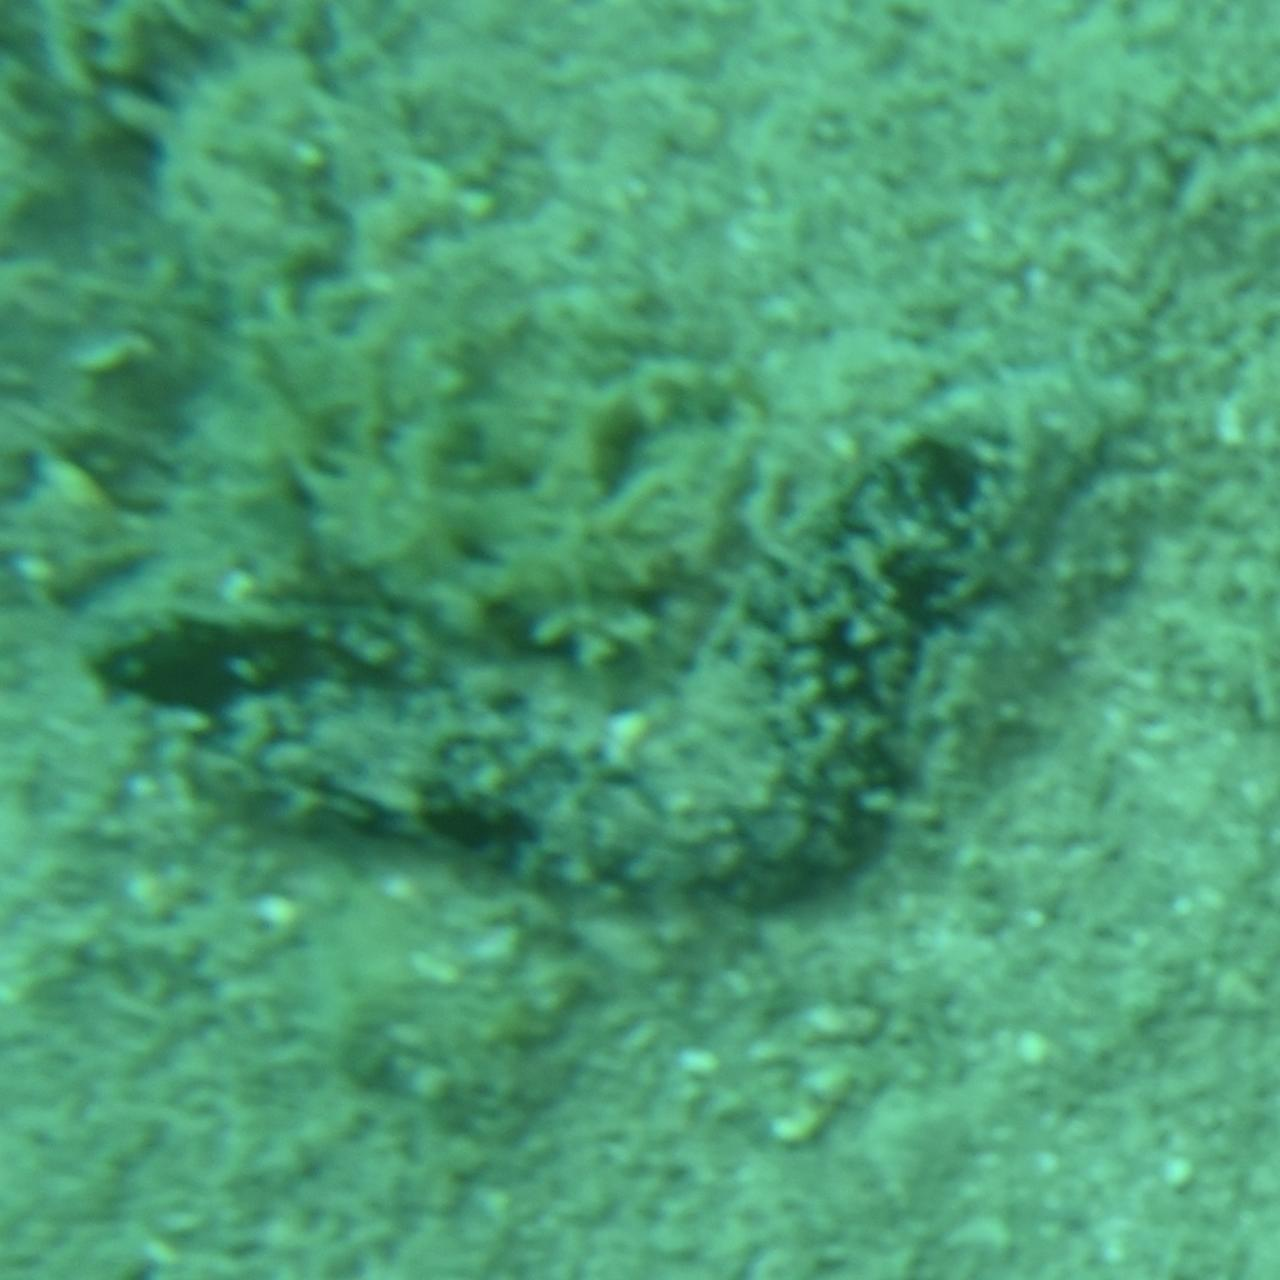Holothuria tubulosa: (120, 365, 1160, 915)
